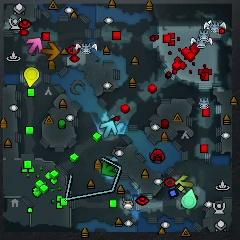p2: (181, 189, 197, 208)
p4: (24, 67, 39, 87)
x1: (26, 37, 43, 53)
x2: (174, 174, 193, 191)
x3: (100, 120, 117, 138)
x4: (101, 160, 117, 178)
x5: (43, 42, 60, 61)
